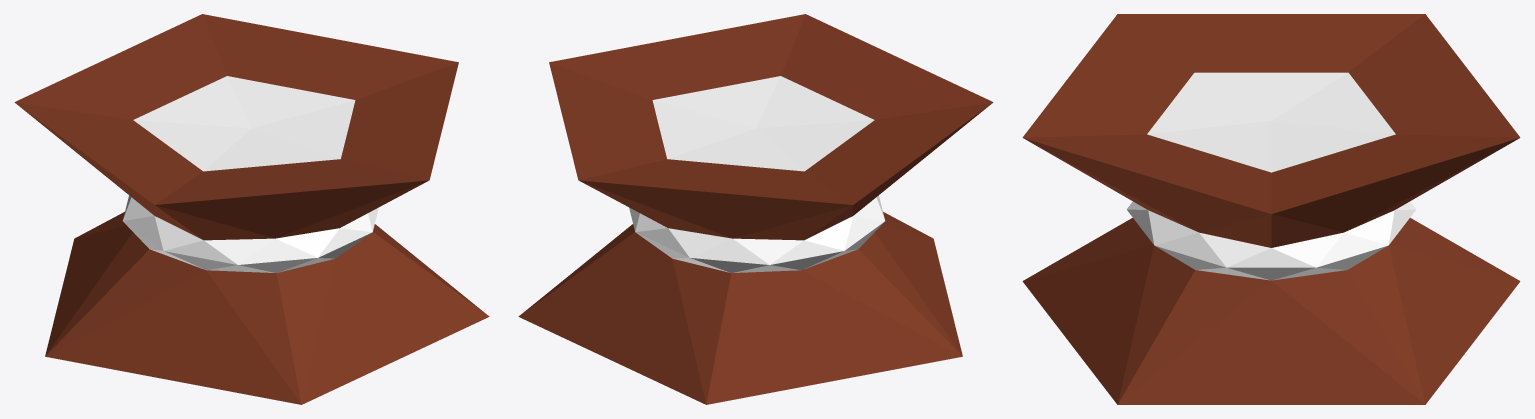
The model's file is jap08.fbx.
The picture shows the model from 3 angles, left to right: view 1: azimuth 30°, elevation 25°; view 2: azimuth 150°, elevation 25°; view 3: azimuth 270°, elevation 25°; orthographic projection. The views are drawn at different scales.
Parts seen in each view (by area): view 1: Icosphere; view 2: Icosphere; view 3: Icosphere.
Part boxes in pixels (left/top/right/bottom): Icosphere: left=14, top=14, right=489, bottom=404; Icosphere: left=518, top=14, right=993, bottom=404; Icosphere: left=1022, top=14, right=1520, bottom=404.
Size of the model in its own units: 259 by 116 by 246.
